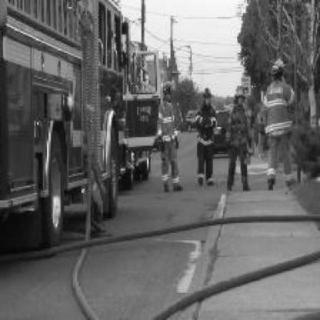other: (15, 61, 78, 163)
